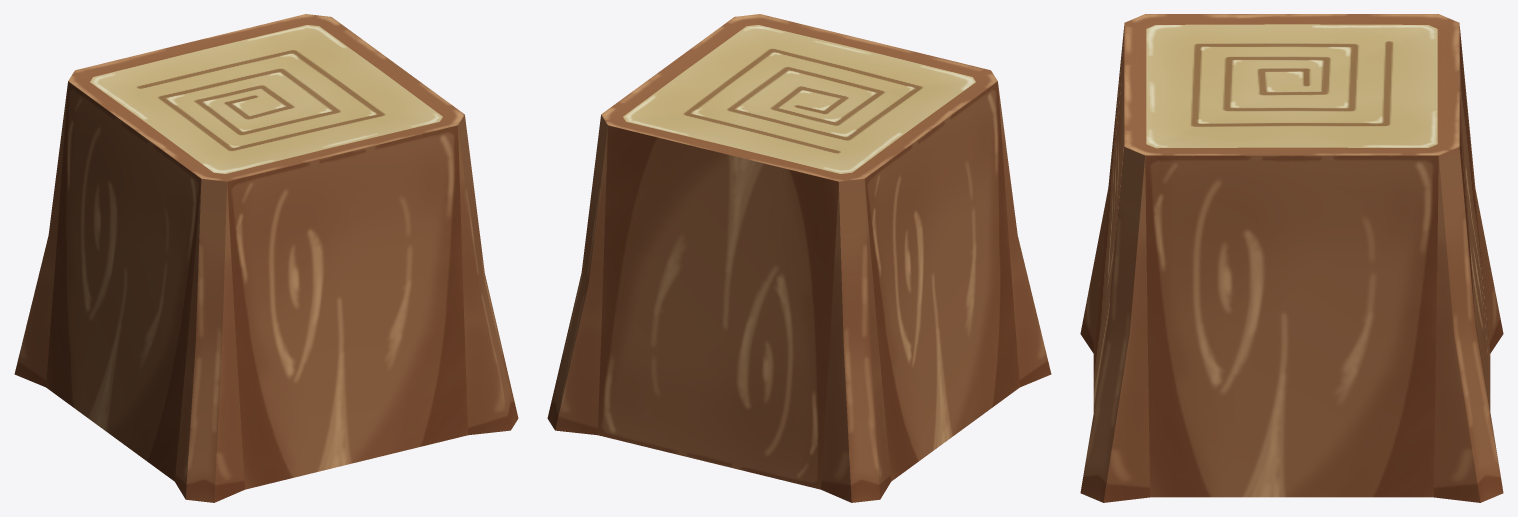
File: S1_InF_Block_001.fbx
3 views of the same model, side by side, from view 1: azimuth 30°, elevation 25°; view 2: azimuth 150°, elevation 25°; view 3: azimuth 270°, elevation 25° (orthographic). The views are drawn at different scales.
Visible parts, largest first — view 1: Ne_Block1; view 2: Ne_Block1; view 3: Ne_Block1.
Part boxes in pixels (x1,y1,x2,y2): Ne_Block1: [14, 14, 518, 502]; Ne_Block1: [547, 14, 1051, 502]; Ne_Block1: [1080, 14, 1503, 502].
Bounding box in the file's own units: 1.17 × 1 × 1.17.
